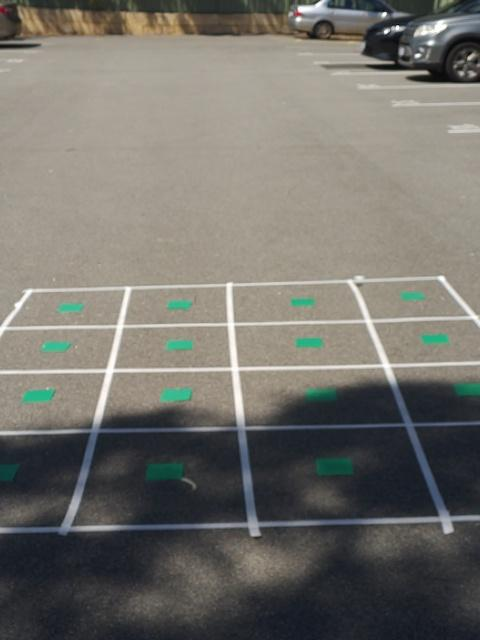weed: (311, 456, 356, 477), (304, 382, 338, 408), (143, 461, 184, 481), (0, 459, 24, 486), (450, 377, 480, 398), (159, 386, 190, 406), (19, 388, 54, 404), (294, 334, 323, 350), (420, 330, 449, 344), (43, 338, 67, 354), (400, 291, 428, 303), (167, 338, 192, 351), (288, 297, 316, 308), (58, 300, 80, 313), (167, 298, 190, 310)
